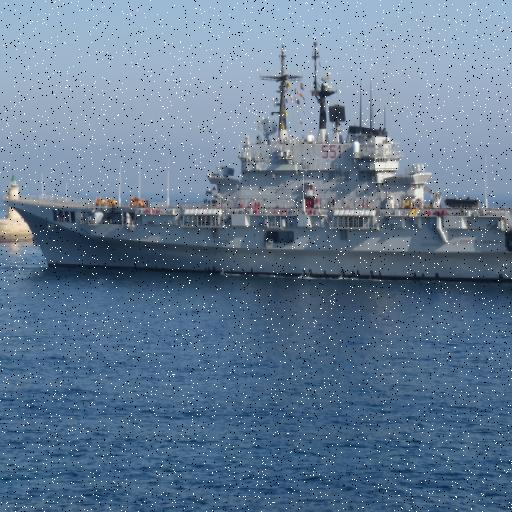Portanaves: (6, 35, 512, 290)
